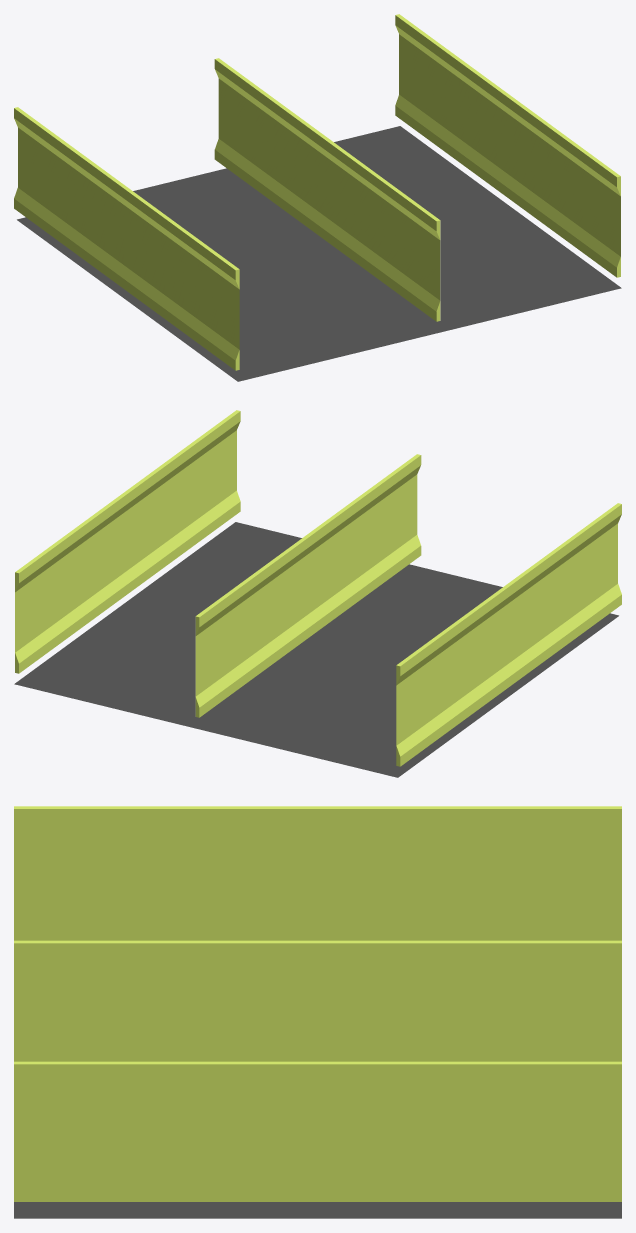
The model's file is Fall.dae.
3 renders of one model, top to bottom at view 1: azimuth 30°, elevation 25°; view 2: azimuth 150°, elevation 25°; view 3: azimuth 270°, elevation 25°, orthographic. The views are drawn at different scales.
Parts seen in each view (by area): view 1: node_cb108bae_66e0_49ca_8cc0_aa226d6a8adf_mesh1, node_cb108bae_66e0_49ca_8cc0_aa226d6a8adf_mesh3, node_cb108bae_66e0_49ca_8cc0_aa226d6a8adf_mesh2, node_cb108bae_66e0_49ca_8cc0_aa226d6a8adf_mesh0; view 2: node_cb108bae_66e0_49ca_8cc0_aa226d6a8adf_mesh1, node_cb108bae_66e0_49ca_8cc0_aa226d6a8adf_mesh3, node_cb108bae_66e0_49ca_8cc0_aa226d6a8adf_mesh2, node_cb108bae_66e0_49ca_8cc0_aa226d6a8adf_mesh0; view 3: node_cb108bae_66e0_49ca_8cc0_aa226d6a8adf_mesh0, node_cb108bae_66e0_49ca_8cc0_aa226d6a8adf_mesh2, node_cb108bae_66e0_49ca_8cc0_aa226d6a8adf_mesh3, node_cb108bae_66e0_49ca_8cc0_aa226d6a8adf_mesh1.
Part boxes in pixels (bbox=[...]): node_cb108bae_66e0_49ca_8cc0_aa226d6a8adf_mesh1: bbox=[17, 126, 621, 381]; node_cb108bae_66e0_49ca_8cc0_aa226d6a8adf_mesh3: bbox=[214, 58, 440, 321]; node_cb108bae_66e0_49ca_8cc0_aa226d6a8adf_mesh2: bbox=[14, 107, 239, 370]; node_cb108bae_66e0_49ca_8cc0_aa226d6a8adf_mesh0: bbox=[395, 14, 620, 277]; node_cb108bae_66e0_49ca_8cc0_aa226d6a8adf_mesh1: bbox=[14, 522, 618, 777]; node_cb108bae_66e0_49ca_8cc0_aa226d6a8adf_mesh3: bbox=[195, 454, 421, 717]; node_cb108bae_66e0_49ca_8cc0_aa226d6a8adf_mesh2: bbox=[396, 503, 621, 766]; node_cb108bae_66e0_49ca_8cc0_aa226d6a8adf_mesh0: bbox=[15, 410, 240, 673]; node_cb108bae_66e0_49ca_8cc0_aa226d6a8adf_mesh0: bbox=[14, 1061, 621, 1201]; node_cb108bae_66e0_49ca_8cc0_aa226d6a8adf_mesh2: bbox=[14, 806, 621, 940]; node_cb108bae_66e0_49ca_8cc0_aa226d6a8adf_mesh3: bbox=[14, 940, 621, 1061]; node_cb108bae_66e0_49ca_8cc0_aa226d6a8adf_mesh1: bbox=[14, 1202, 621, 1218].
Bounding box in the file's own units: 5030 × 1395 × 5000.
